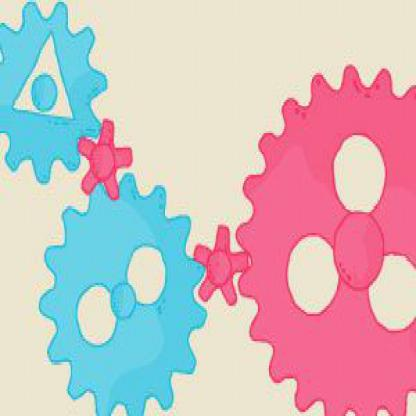FOD: (233, 60, 415, 414), (36, 166, 209, 414)
